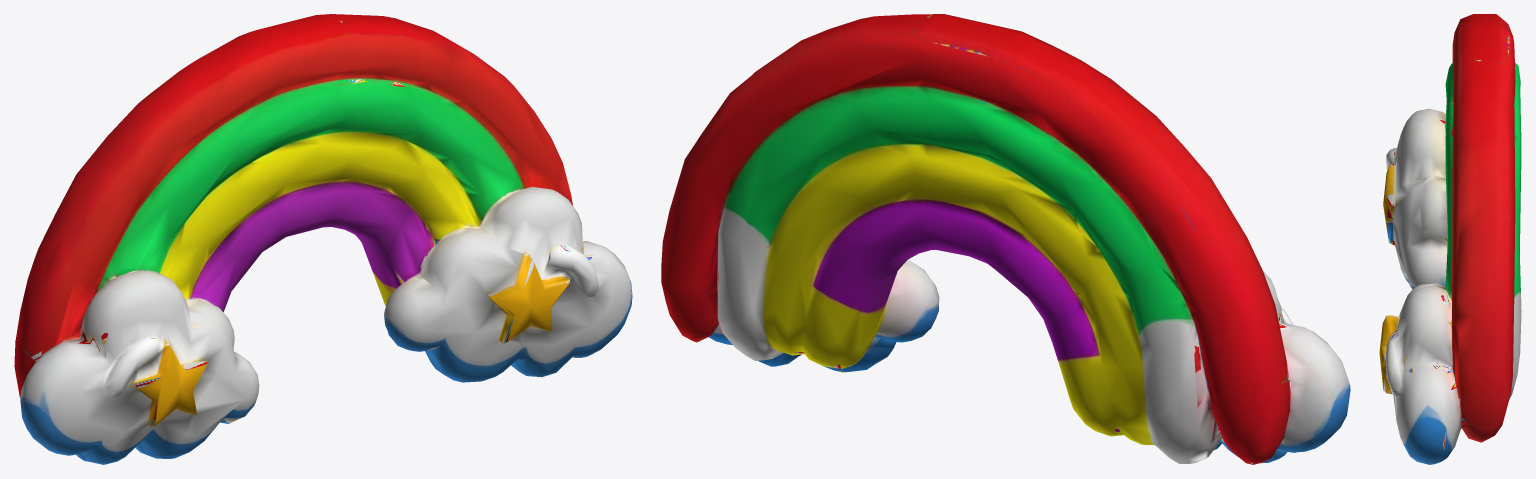
File: rainbow.glb
3 views of the same model, side by side, from view 1: azimuth 30°, elevation 25°; view 2: azimuth 150°, elevation 25°; view 3: azimuth 270°, elevation 25° (orthographic). The views are drawn at different scales.
Bounding box in the file's own units: 2 × 1.19 × 0.4729.
1 material, 1 textured.
